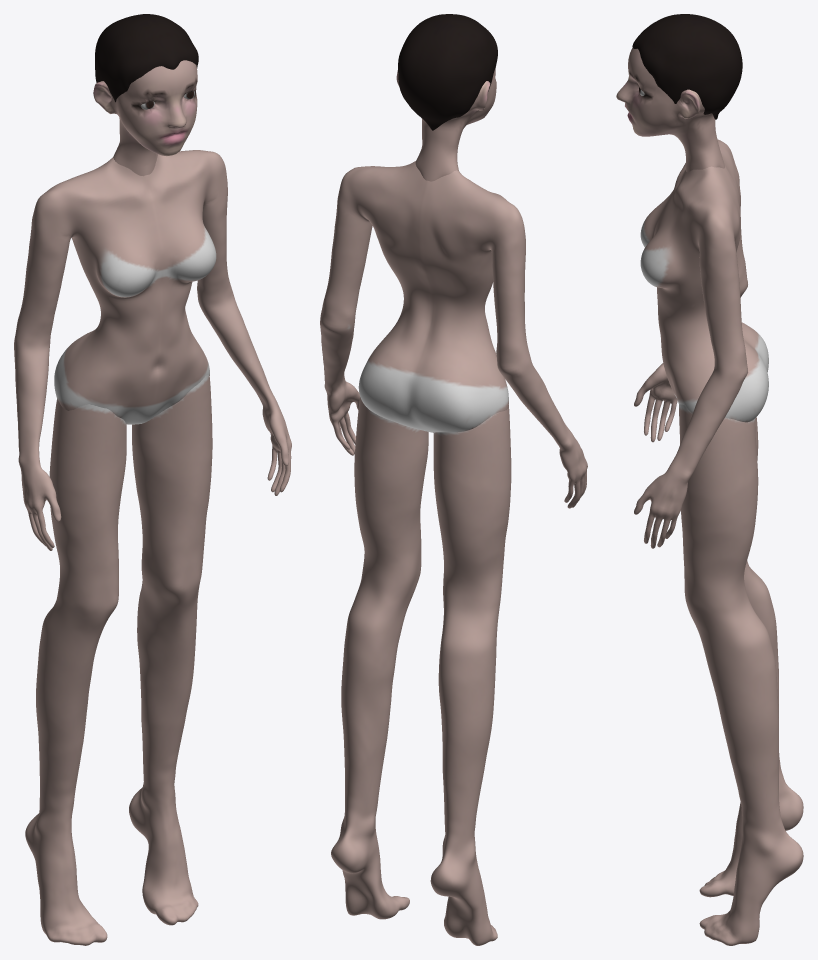
The model's file is mc-body.fbx.
3 renders of one model, left to right at view 1: azimuth 30°, elevation 25°; view 2: azimuth 150°, elevation 25°; view 3: azimuth 270°, elevation 25°, orthographic. The views are drawn at different scales.
Parts seen in each view (by area): view 1: body4; view 2: body4; view 3: body4.
Boxes of the visible parts, left/top/right/bottom form: body4: left=14, top=14, right=291, bottom=945; body4: left=320, top=14, right=587, bottom=945; body4: left=616, top=14, right=803, bottom=945.
Bounding box in the file's own units: 3.11 × 10.51 × 1.99.
